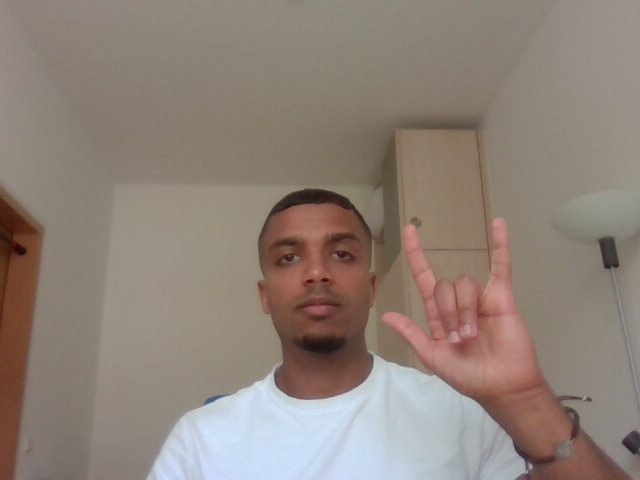absolutely: (380, 214, 567, 406)
